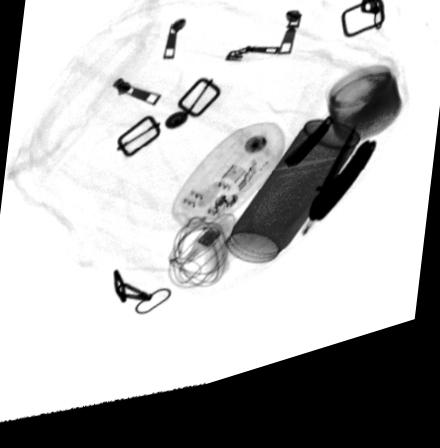Knife: (306, 144, 378, 241)
